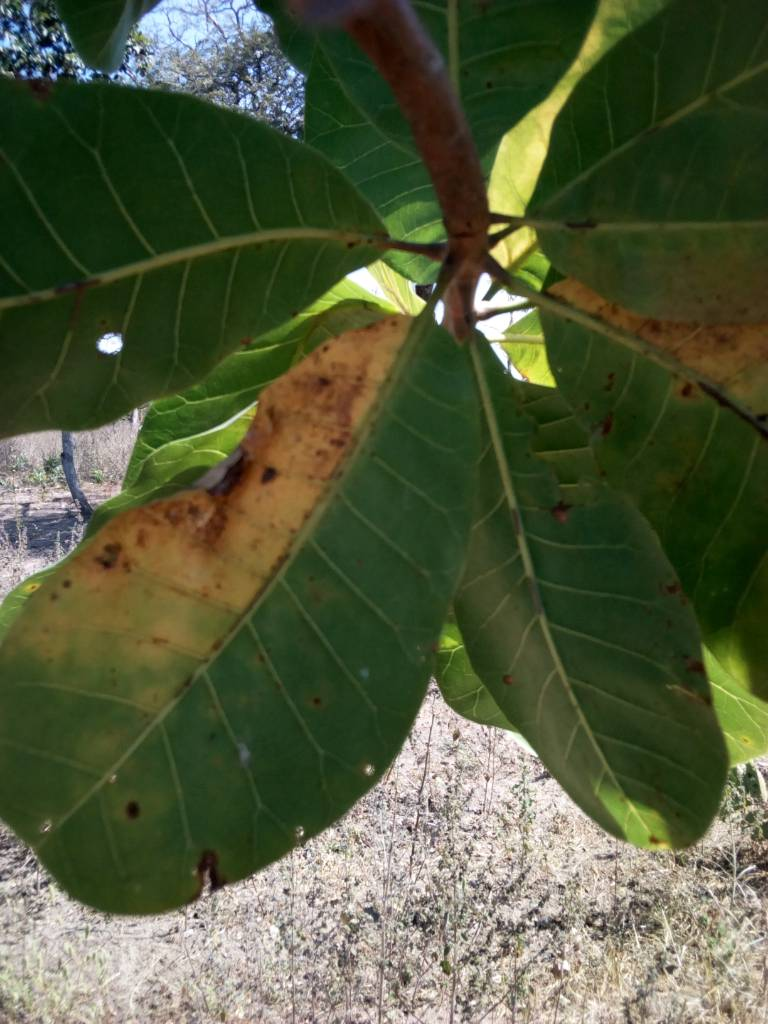Bactériose: (2, 316, 479, 903), (521, 257, 768, 525)
